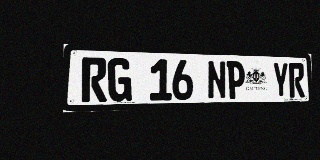1: (150, 59, 172, 101)
6: (172, 60, 193, 100)
G: (108, 58, 132, 102)
N: (207, 60, 226, 99)
P: (227, 61, 245, 99)
R: (82, 57, 107, 102), (289, 63, 305, 98)
Y: (272, 62, 289, 98)
